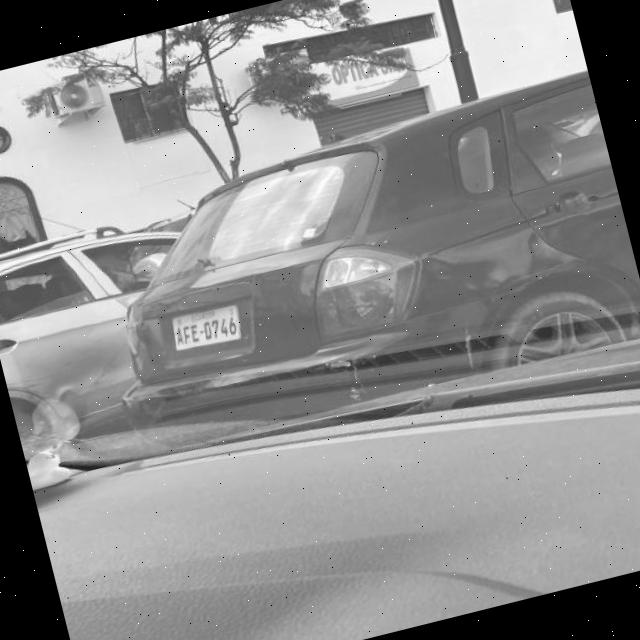Placa: (172, 305, 239, 350)
